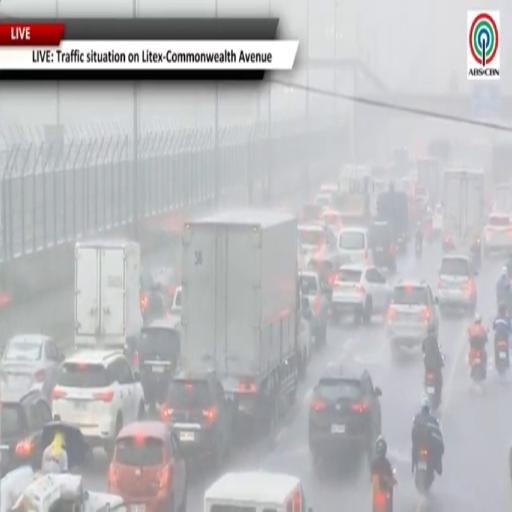car: (52, 349, 145, 455), (108, 421, 187, 511), (161, 372, 233, 467), (309, 368, 381, 463), (0, 386, 52, 475), (0, 334, 63, 402), (135, 318, 181, 410), (387, 281, 439, 350), (331, 265, 392, 323), (299, 270, 331, 345), (438, 254, 477, 313), (140, 267, 180, 323), (298, 224, 336, 267), (370, 220, 396, 271), (337, 228, 371, 264), (297, 309, 314, 377), (483, 213, 511, 254), (307, 254, 342, 285), (166, 285, 182, 332), (315, 183, 339, 207), (322, 208, 342, 235), (298, 203, 324, 223), (171, 285, 182, 316), (433, 204, 443, 237), (0, 284, 12, 310), (315, 192, 332, 207), (319, 183, 339, 195)
motorcycle: (372, 470, 397, 511), (415, 446, 434, 494), (425, 372, 440, 410), (469, 349, 486, 382), (495, 340, 509, 374), (471, 239, 482, 268), (415, 239, 422, 258), (509, 444, 511, 482)
truck: (182, 210, 299, 426), (74, 240, 143, 349), (443, 168, 486, 252), (333, 165, 374, 226), (417, 158, 442, 207), (491, 141, 511, 185), (492, 181, 511, 216)
